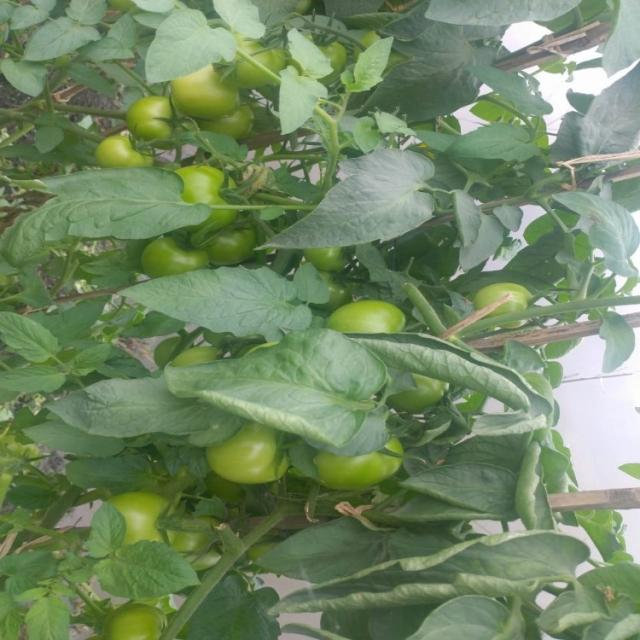tomato: (208, 420, 311, 495), (295, 440, 418, 492), (116, 485, 201, 549), (464, 273, 554, 333), (168, 65, 251, 129), (175, 164, 243, 226), (325, 295, 410, 343), (192, 219, 265, 271), (124, 90, 185, 149), (133, 231, 210, 275), (102, 587, 165, 640), (228, 39, 291, 90), (92, 140, 157, 175)
